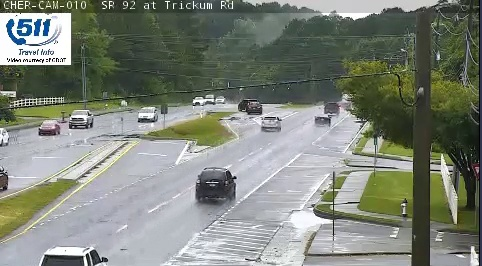car: (196, 168, 236, 197), (260, 116, 280, 130), (314, 115, 331, 126)
